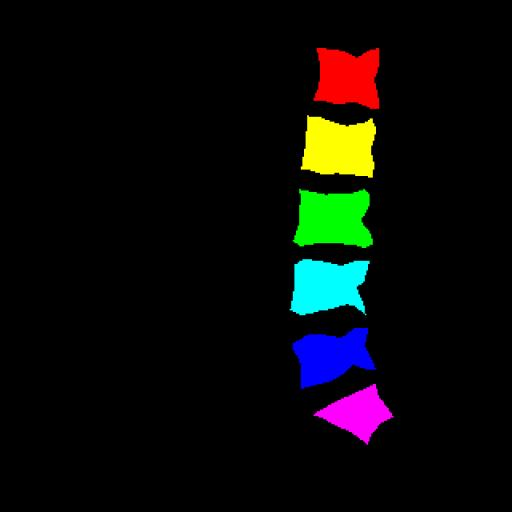L1: (314, 48, 379, 108)
L2: (302, 116, 376, 178)
L3: (296, 190, 373, 248)
L4: (291, 259, 369, 314)
L5: (294, 328, 374, 388)
S1: (314, 384, 393, 444)
